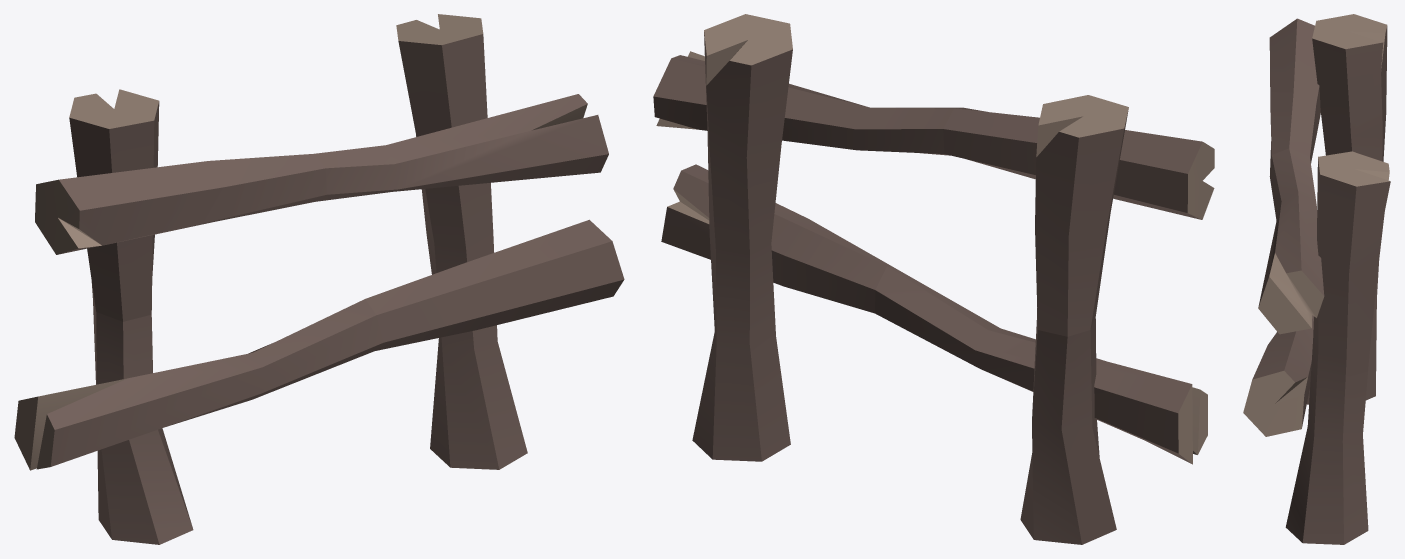
Rendered from fence.obj.
3 renders of one model, left to right at view 1: azimuth 30°, elevation 25°; view 2: azimuth 150°, elevation 25°; view 3: azimuth 270°, elevation 25°, orthographic. The views are drawn at different scales.
Visible parts, largest first — view 1: fence_1.003_0; view 2: fence_1.003_0; view 3: fence_1.003_0.
Boxes of the visible parts, x1,y1,x2,y2 form: fence_1.003_0: (14, 14, 624, 544); fence_1.003_0: (653, 14, 1214, 544); fence_1.003_0: (1243, 14, 1390, 544).
Bounding box in the file's own units: 1.1 × 0.8099 × 0.3056.
